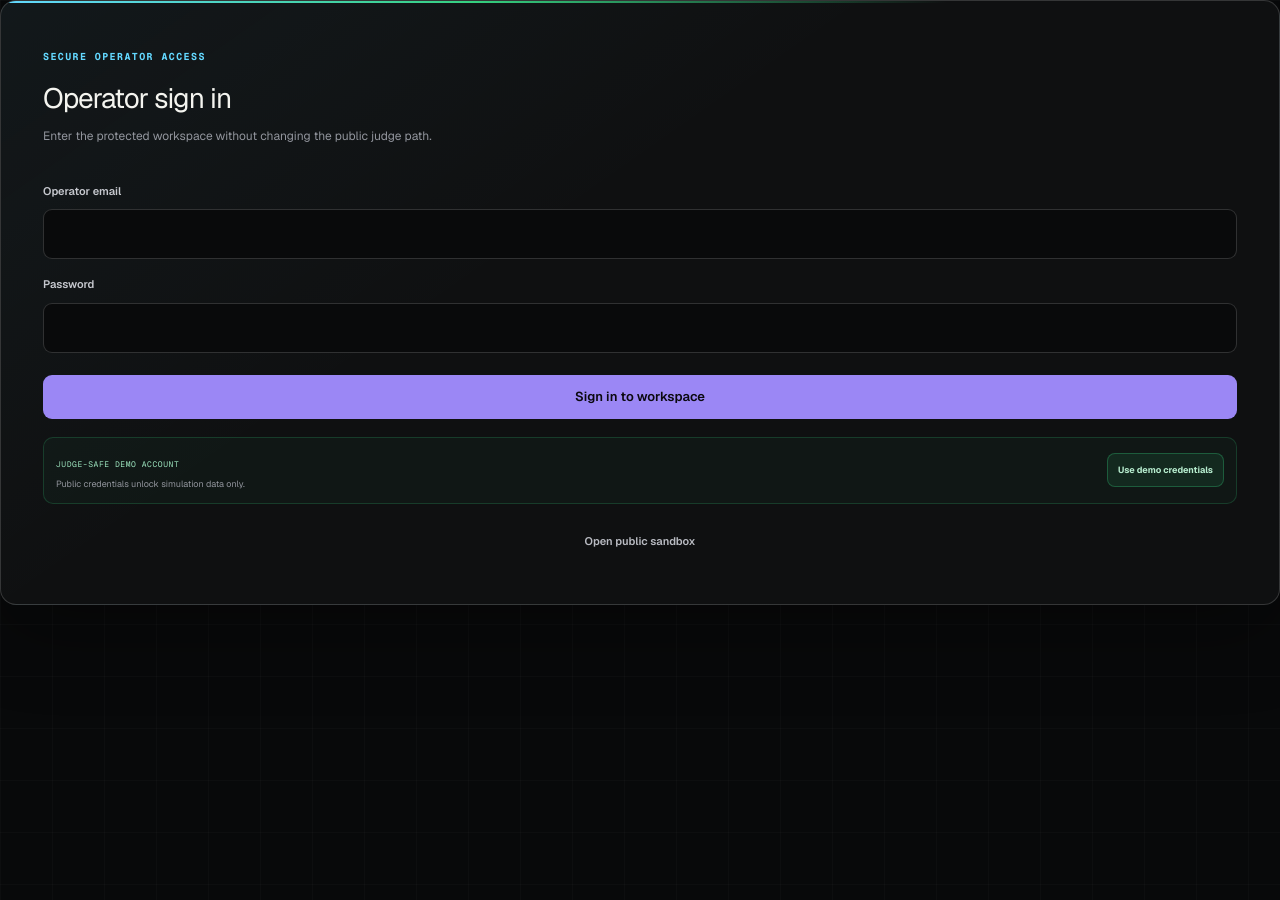
it: operator login form › shows a generic failure and never claims a session was created
Type "judge@zelic.guard" into the field labelled "Operator email".
click(640, 234); type("judge@zelic.guard")  # box top-left (43, 209), bottom-right (1237, 259)
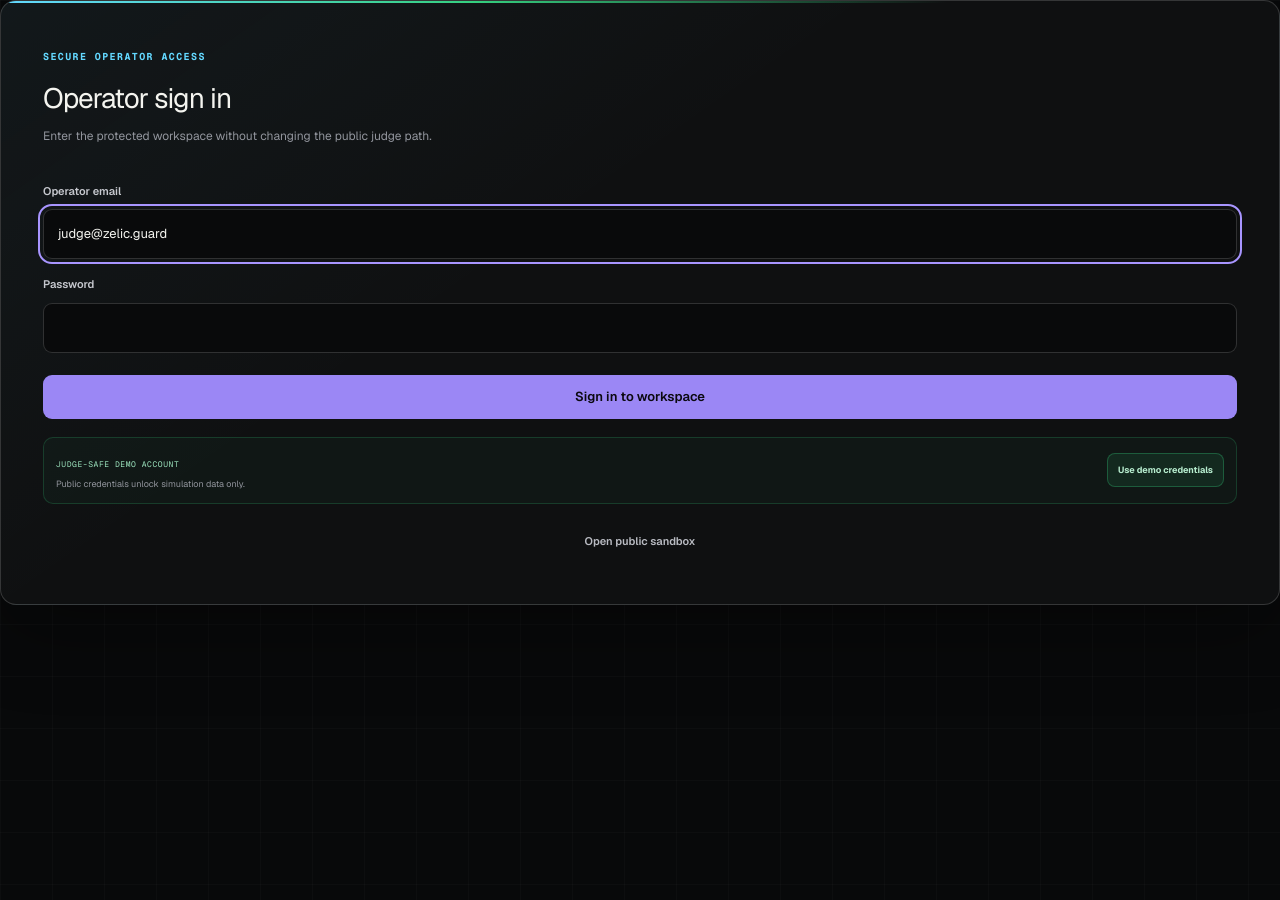
Type "Incorrect!2026" into the password field labelled "Password".
click(640, 328); type("Incorrect!2026")  # box top-left (43, 303), bottom-right (1237, 353)
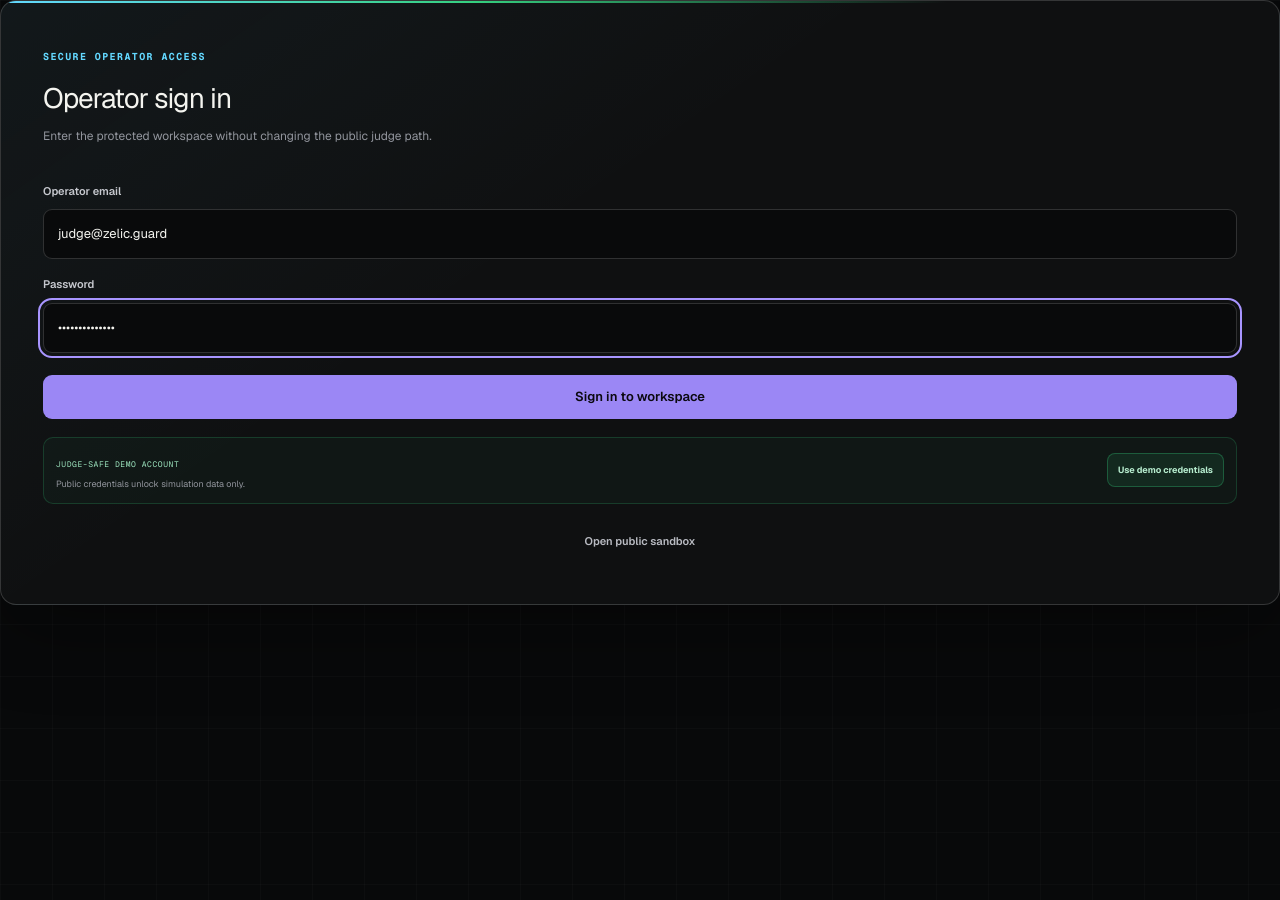
Click the button "Sign in to workspace".
click(640, 397)  # box top-left (43, 375), bottom-right (1237, 419)
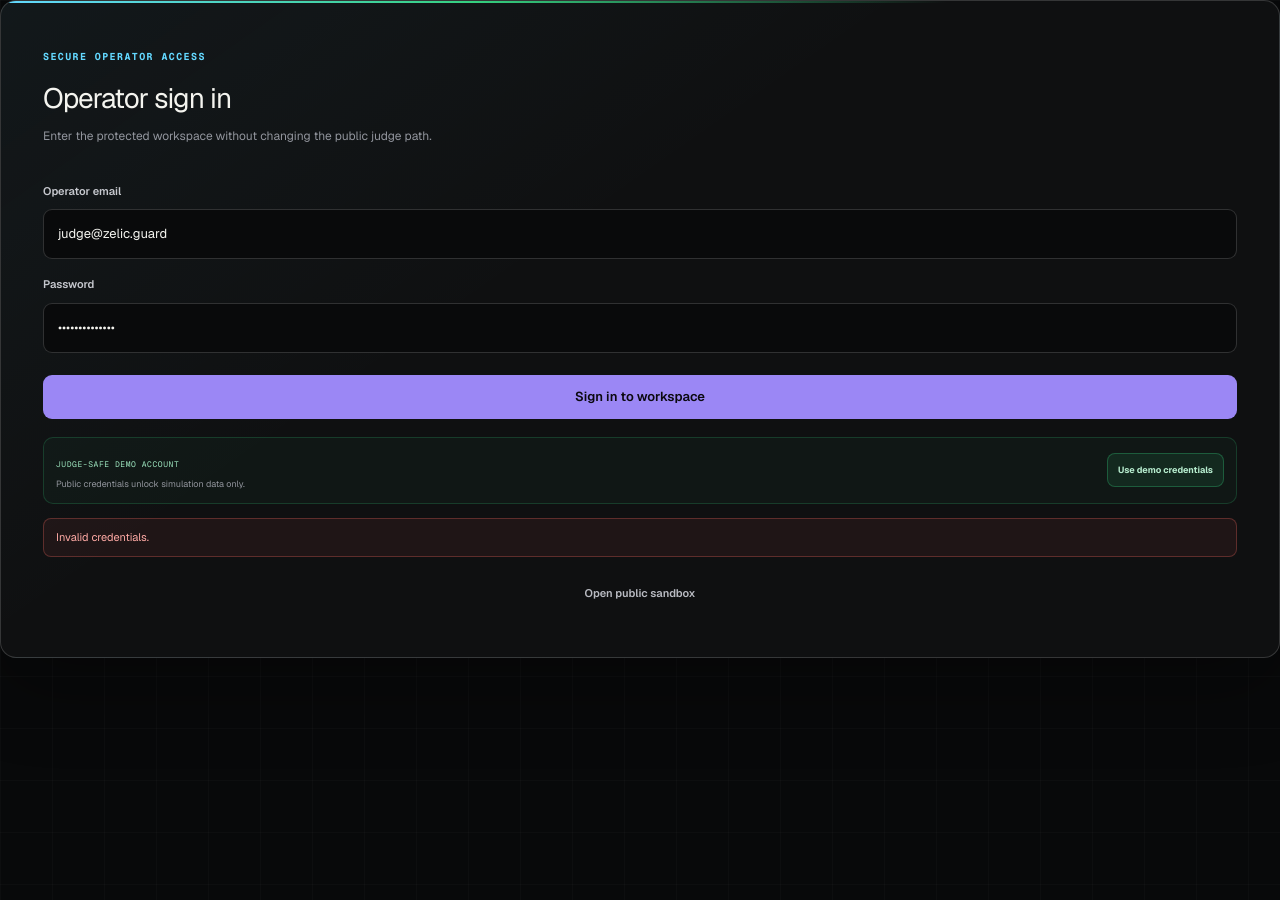
Check: the message reads "Invalid credentials.", box top-left (56, 530), bottom-right (149, 544)
